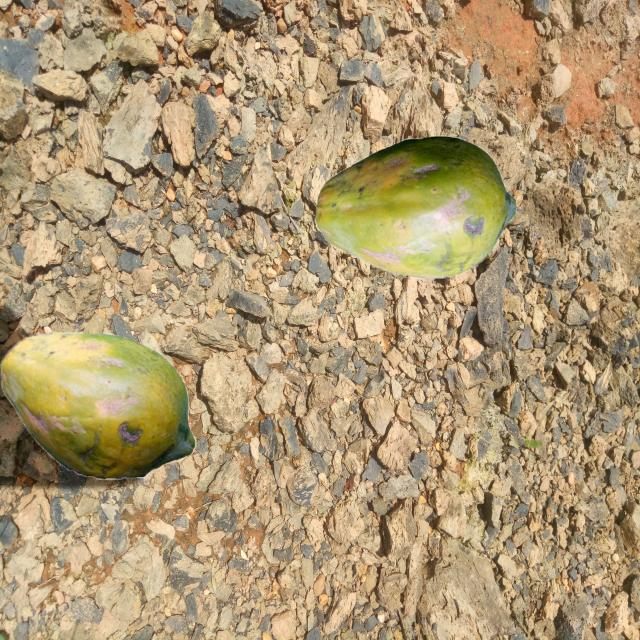Pepaya rippen: (5, 299, 199, 496), (315, 136, 522, 292)
